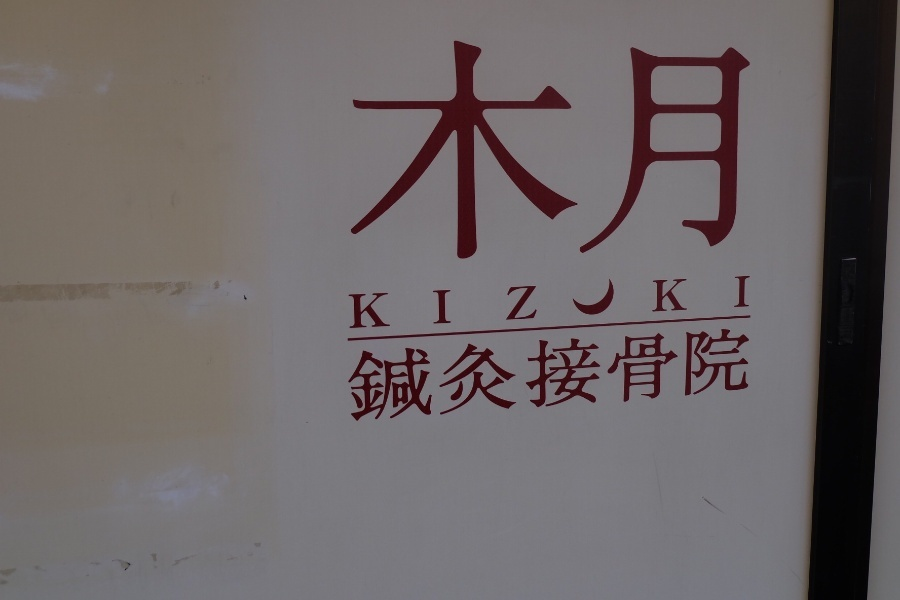text: (369, 39, 384, 261), (385, 39, 400, 261), (401, 39, 416, 261), (417, 39, 432, 261), (433, 39, 448, 261), (449, 39, 464, 261), (465, 39, 480, 261), (481, 39, 496, 261), (497, 39, 512, 261), (513, 39, 528, 261), (529, 39, 544, 261), (545, 39, 560, 261), (561, 39, 576, 261), (577, 39, 592, 261), (593, 39, 608, 261), (609, 39, 624, 261), (625, 39, 640, 261), (641, 39, 656, 261), (657, 39, 672, 261), (673, 39, 688, 261), (689, 39, 704, 261), (705, 39, 720, 261), (721, 39, 736, 261), (737, 39, 752, 261), (355, 39, 368, 261), (353, 328, 368, 424), (369, 328, 384, 424), (385, 328, 400, 424), (401, 328, 416, 424), (417, 328, 432, 424), (433, 328, 448, 424), (449, 328, 464, 424), (465, 328, 480, 424), (481, 328, 496, 424), (497, 328, 512, 424), (513, 328, 528, 424), (529, 328, 544, 424), (545, 328, 560, 424), (561, 328, 576, 424), (577, 328, 592, 424), (593, 328, 608, 424), (609, 328, 624, 424), (625, 328, 640, 424), (641, 328, 656, 424), (657, 328, 672, 424), (673, 328, 688, 424), (689, 328, 704, 424), (705, 328, 720, 424), (721, 328, 736, 424), (737, 328, 752, 424), (353, 286, 368, 331), (369, 286, 384, 331), (385, 286, 400, 331), (401, 286, 416, 331), (417, 286, 432, 331), (433, 286, 448, 331), (449, 286, 464, 331), (465, 286, 480, 331), (481, 286, 496, 331), (497, 286, 512, 331), (513, 286, 528, 331), (657, 277, 672, 314), (673, 277, 688, 314), (689, 277, 704, 314), (705, 277, 720, 314), (721, 277, 736, 314), (737, 277, 752, 314), (529, 286, 539, 331), (348, 328, 352, 424), (349, 286, 352, 331), (653, 277, 656, 314)
